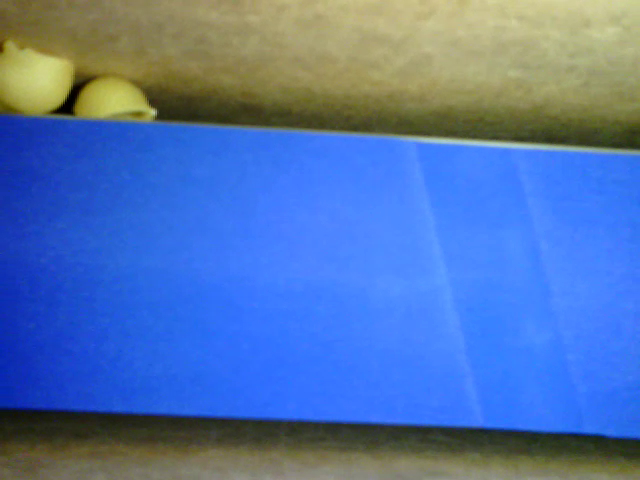shell: (1, 32, 79, 117), (71, 73, 161, 127)
